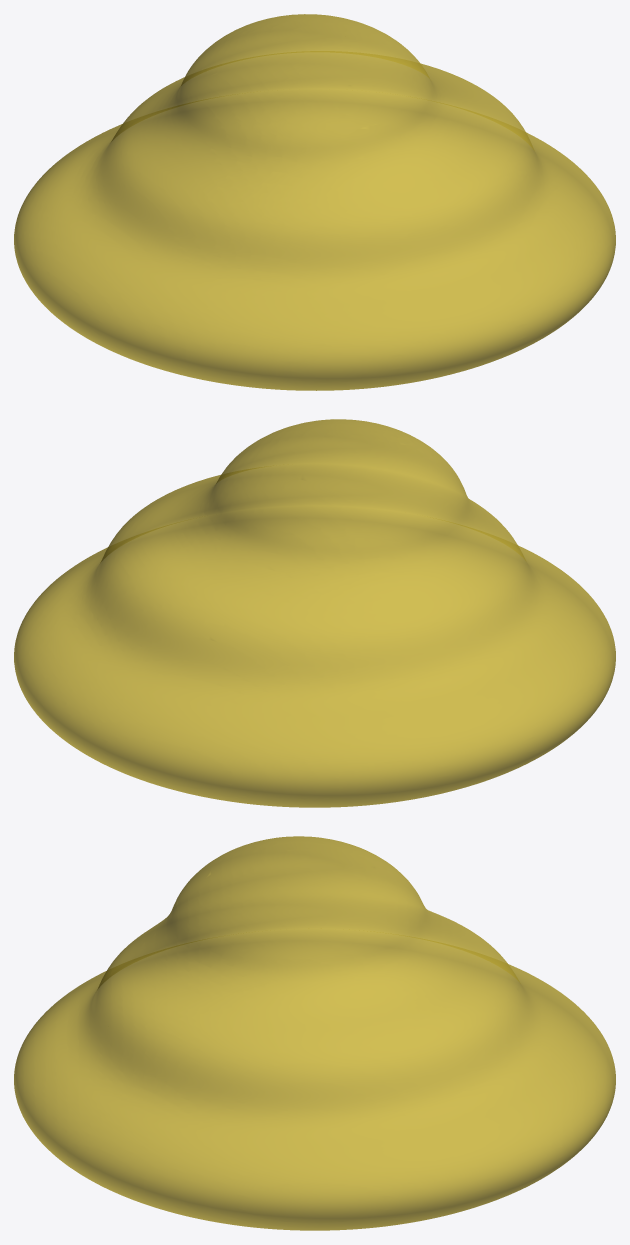
File: savia.fbx
3 renders of one model, top to bottom at view 1: azimuth 30°, elevation 25°; view 2: azimuth 150°, elevation 25°; view 3: azimuth 270°, elevation 25°, orthographic.
Visible parts, largest first — view 1: savia; view 2: savia; view 3: savia.
Part boxes in pixels (box(x1,y1,x2,y2)): savia: box(14, 14, 615, 390); savia: box(14, 419, 615, 807); savia: box(14, 836, 615, 1230).
Bounding box in the file's own units: 920 × 920 × 505.
